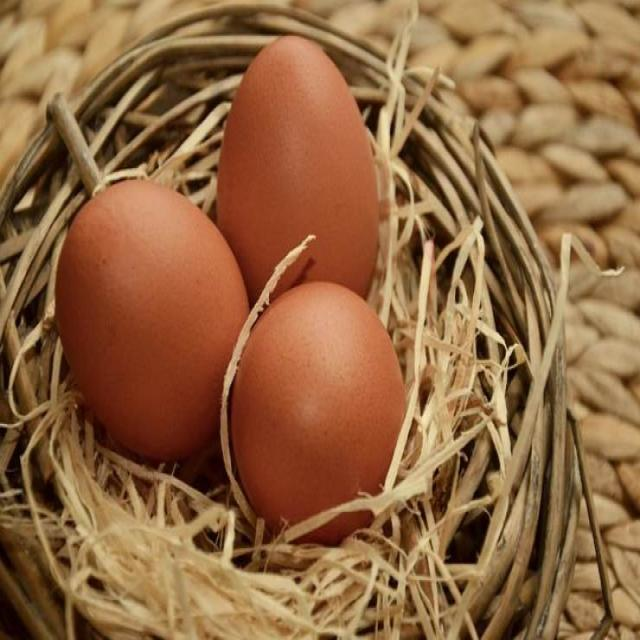Egg: (49, 182, 260, 472), (214, 22, 388, 313), (239, 286, 414, 540)
